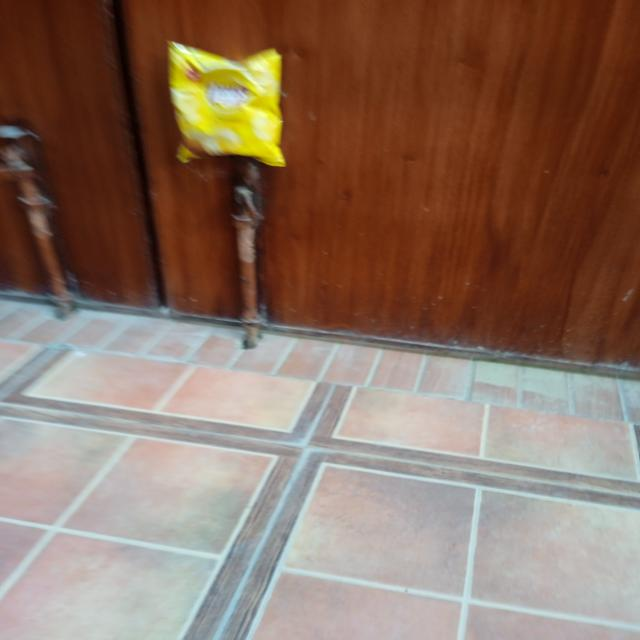Plastic: (168, 45, 281, 162)
